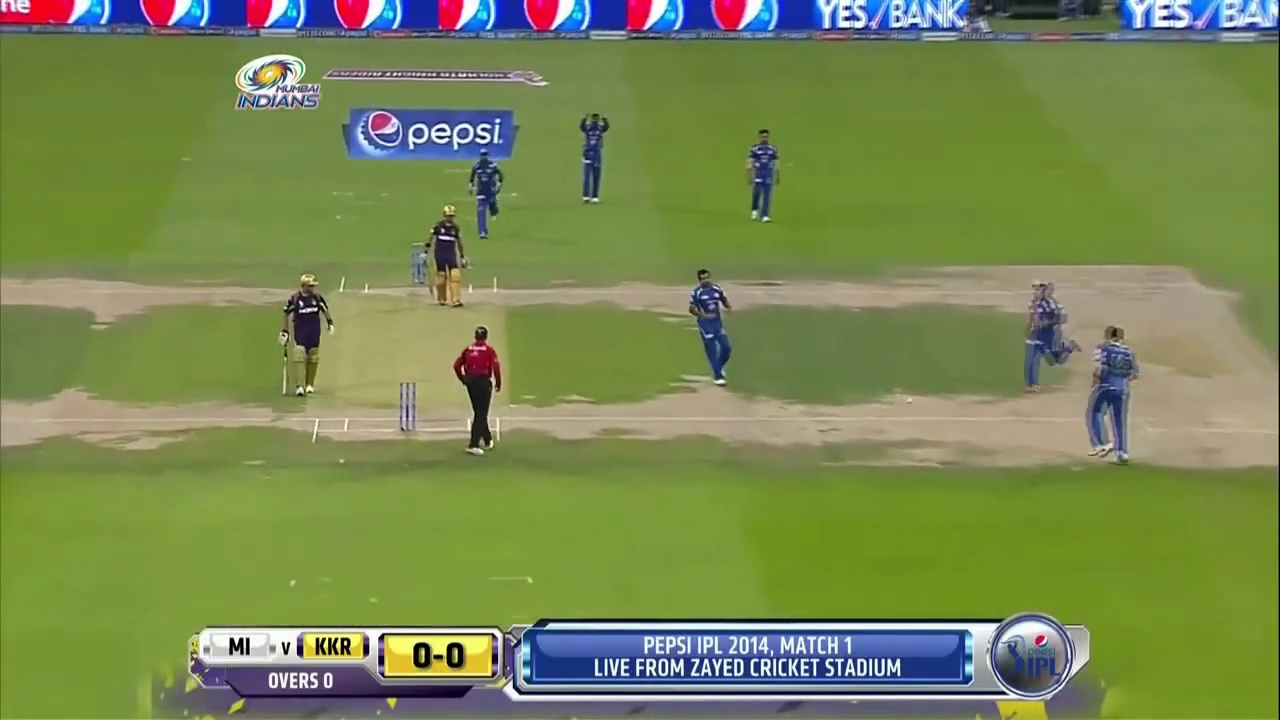bat: (282, 346, 290, 394)
stumps: (398, 380, 418, 433)
